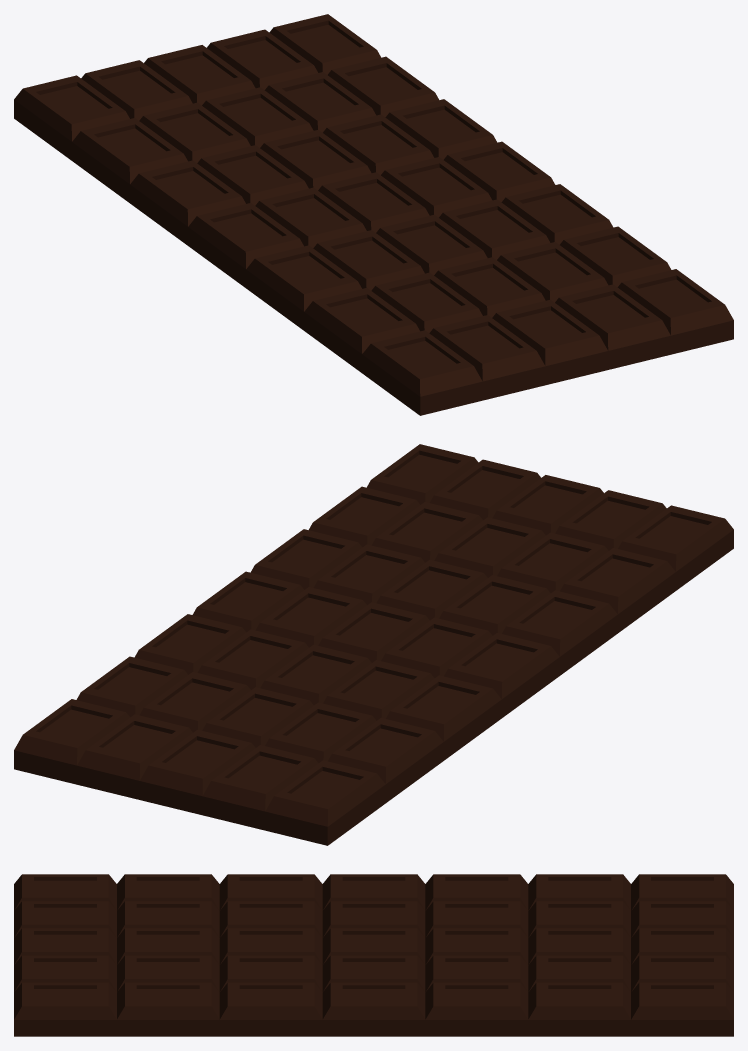
File: Prop masak_Dark Chocolate.fbx
The picture shows the model from 3 angles, top to bottom: view 1: azimuth 30°, elevation 25°; view 2: azimuth 150°, elevation 25°; view 3: azimuth 270°, elevation 25°; orthographic projection. The views are drawn at different scales.
Visible parts, largest first — view 1: Chocolate; view 2: Chocolate; view 3: Chocolate.
Boxes of the visible parts, x1,y1,x2,y2 form: Chocolate: (14, 14, 733, 415); Chocolate: (14, 444, 733, 845); Chocolate: (14, 874, 733, 1036).
Bounding box in the file's own units: 9.86 × 0.9692 × 22.1.
